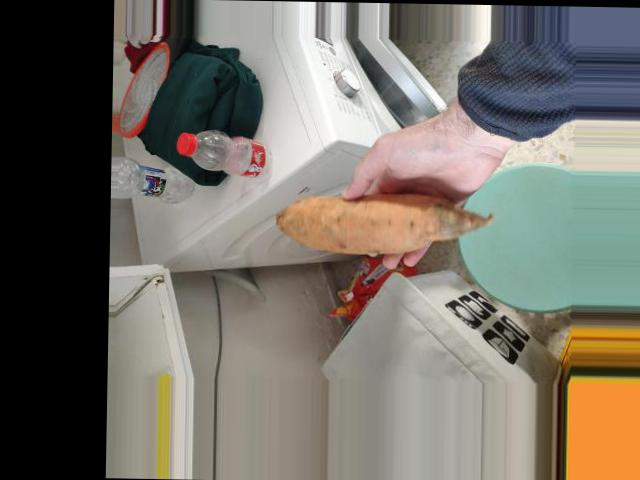sweet_potato: (301, 179, 449, 247)
